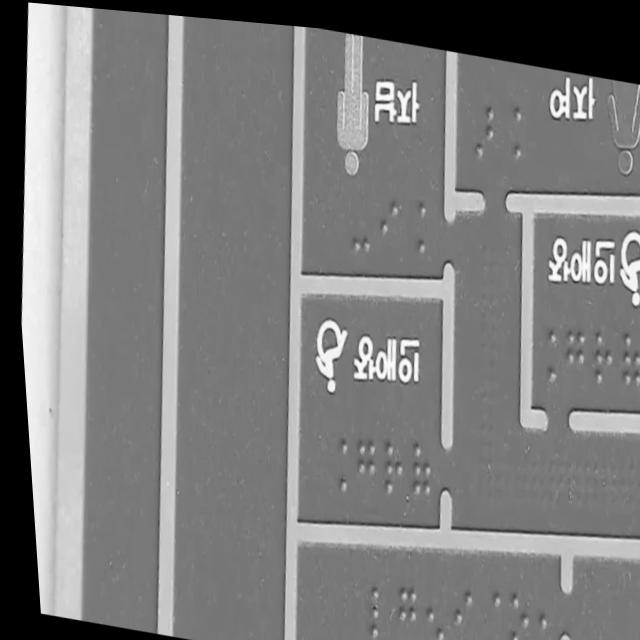braiile: (354, 570, 389, 640), (370, 179, 405, 248), (436, 570, 470, 638), (466, 88, 500, 156), (492, 88, 526, 156), (343, 425, 376, 493), (396, 423, 429, 491), (408, 576, 443, 640), (380, 574, 414, 638), (314, 422, 346, 490), (465, 576, 500, 638), (493, 577, 527, 640), (521, 577, 555, 640), (525, 311, 557, 377), (555, 310, 587, 376), (581, 313, 614, 377), (369, 429, 403, 491), (396, 185, 428, 250), (342, 185, 374, 249), (609, 313, 640, 377)
